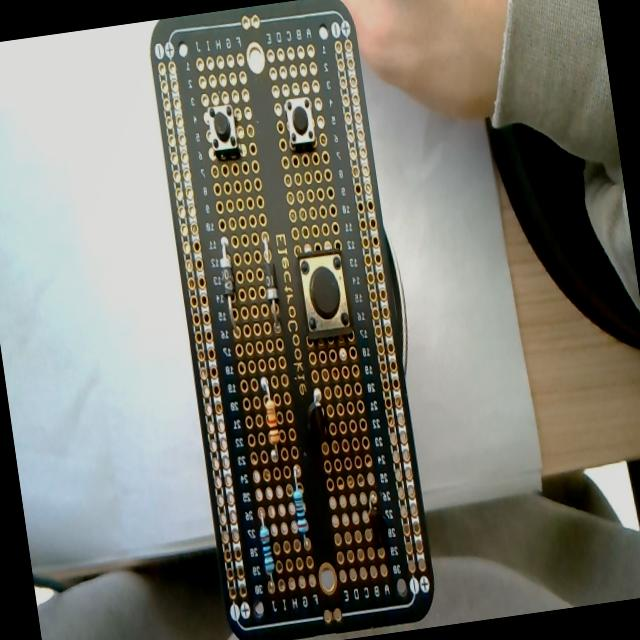diode: (258, 234, 284, 336), (216, 235, 241, 332)
resistor: (289, 466, 311, 546), (259, 376, 282, 450), (257, 514, 277, 584)
switch: (296, 246, 353, 338), (203, 100, 241, 160), (283, 94, 319, 152)
transistor: (356, 466, 399, 578), (296, 369, 341, 464)
